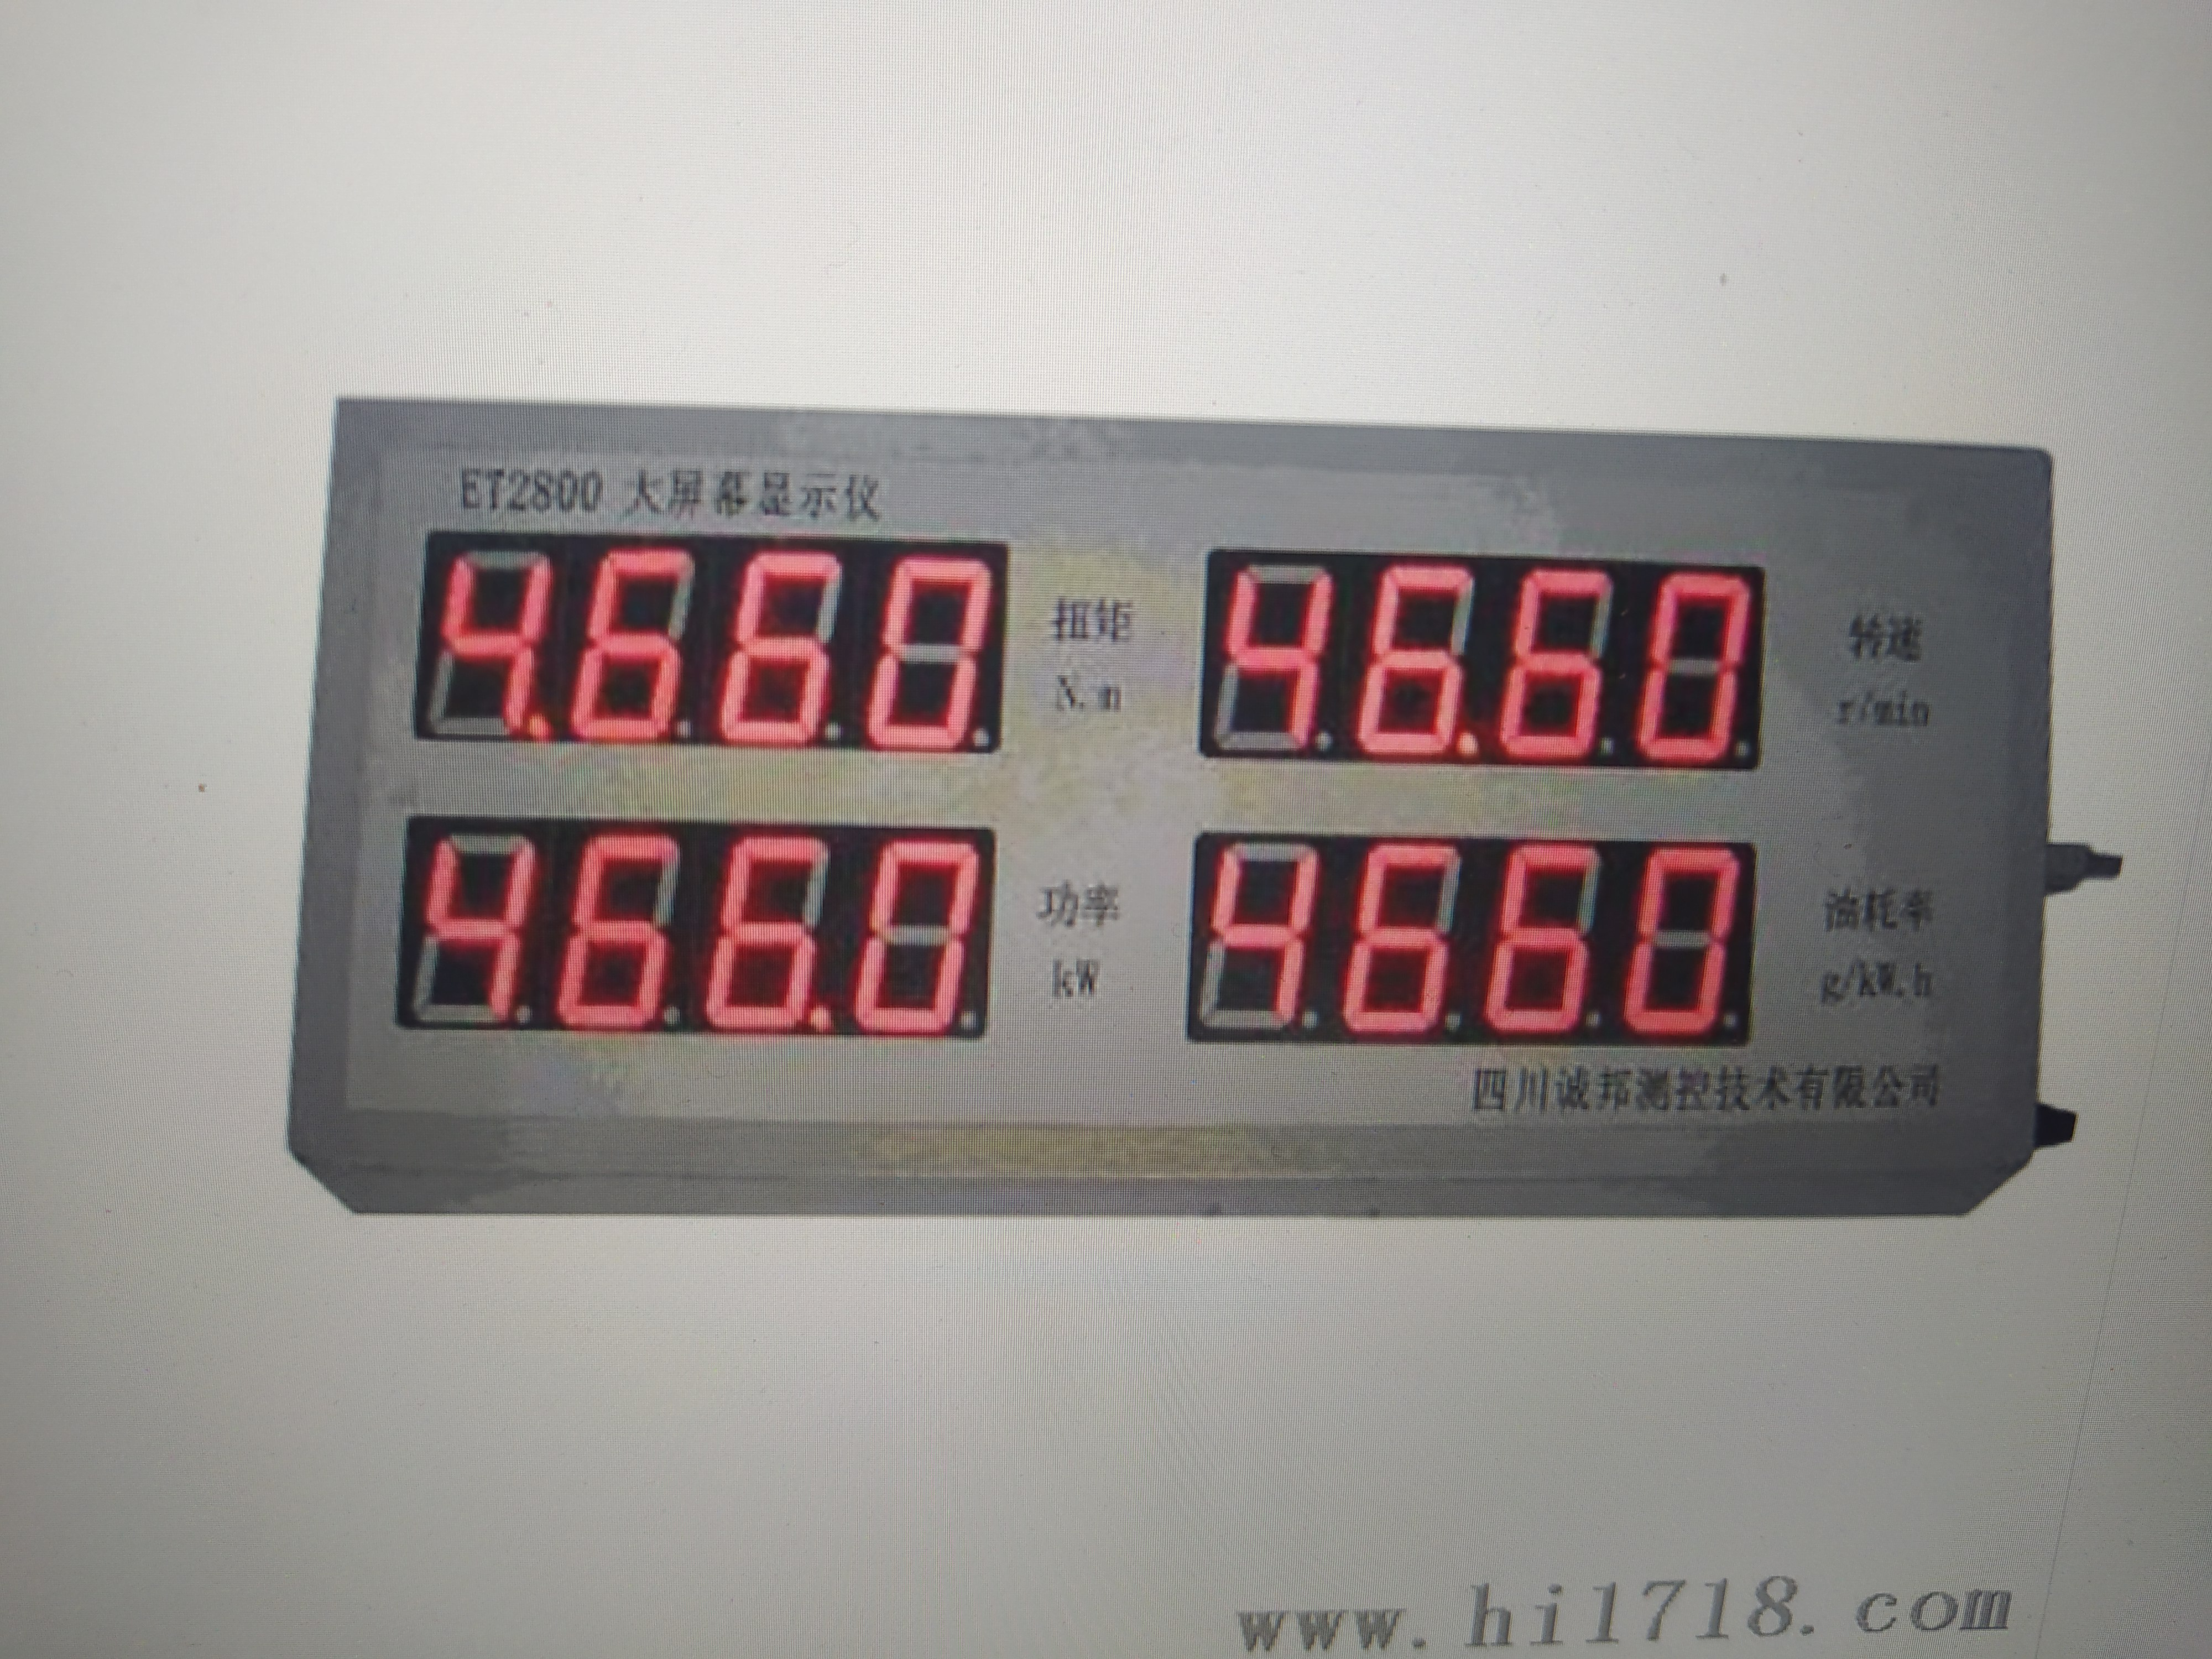.: (1287, 843, 1325, 1033), (1454, 573, 1491, 760), (507, 840, 543, 1026), (803, 836, 838, 1032), (820, 551, 855, 742), (669, 552, 704, 741), (1437, 845, 1472, 1032), (1313, 568, 1346, 758), (1595, 568, 1627, 765), (1581, 843, 1613, 1037), (953, 842, 984, 1032), (1719, 847, 1749, 1033), (657, 838, 685, 1030), (1733, 577, 1759, 760), (529, 559, 554, 739), (974, 563, 996, 751), (1799, 1568, 1825, 1649), (1409, 1582, 1432, 1649), (1078, 673, 1092, 714), (1898, 962, 1911, 997)
0: (845, 842, 982, 1035), (869, 561, 996, 749), (1634, 570, 1754, 762), (1613, 847, 1733, 1028), (571, 460, 611, 518), (559, 464, 578, 521)
1: (1695, 1570, 1738, 1649), (1588, 1581, 1627, 1654)
2: (503, 465, 529, 512)
4: (1211, 563, 1338, 756), (1197, 838, 1318, 1035), (418, 836, 536, 1026), (444, 556, 552, 739)
6: (700, 836, 831, 1030), (547, 836, 678, 1028), (1348, 570, 1475, 765), (564, 552, 691, 742), (723, 545, 841, 748), (1493, 563, 1608, 762), (1484, 840, 1601, 1032), (1345, 842, 1460, 1032)
7: (1625, 1577, 1689, 1650)
8: (1740, 1567, 1801, 1647), (529, 467, 557, 521)
